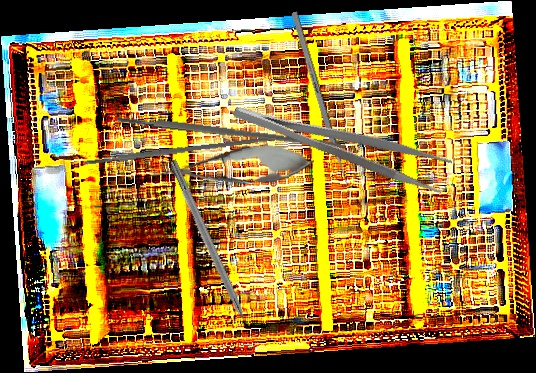Dressing Forceps: (230, 83, 454, 198)
Hook Surgical: (166, 158, 258, 345)
Micro Scissor: (145, 139, 317, 196)
Pusher: (290, 11, 355, 200)
Scalpel Handle: (116, 113, 346, 151), (82, 133, 280, 167)
